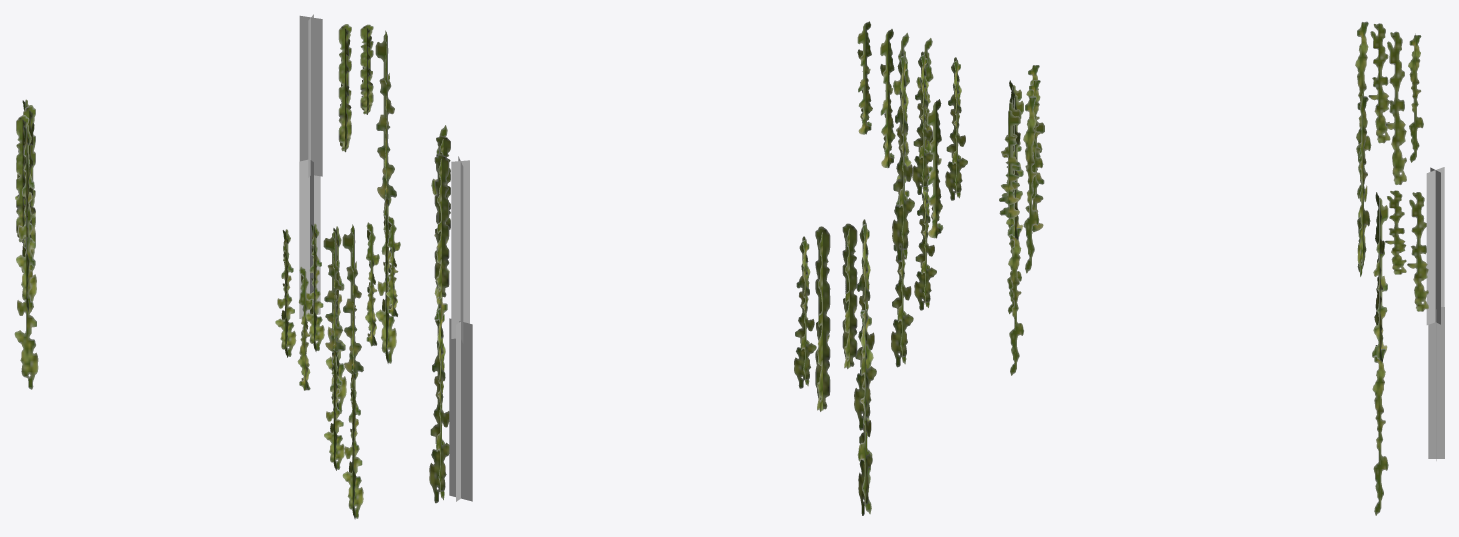
Rendered from CentralFolliageRoof.fbx.
3 renders of one model, left to right at view 1: azimuth 30°, elevation 25°; view 2: azimuth 150°, elevation 25°; view 3: azimuth 270°, elevation 25°, orthographic. The views are drawn at different scales.
Parts seen in each view (by area): view 1: Plane.009, Plane.010, Plane.006, Plane.002, Plane.017, Plane.015, Plane.003, Plane.004, Plane.011, Plane.013, Plane, Plane.005 (+4 smaller); view 2: Plane.009, Plane.010, Plane.014, Plane.012, Plane.015, Plane.006, Plane.002, Plane, Plane.003, Plane.017, Plane.016, Plane.004 (+4 smaller); view 3: Plane.009, Plane.010, Plane.006, Plane.014, Plane.003, Plane, Plane.012, Plane.017, Plane.013, Plane.016, Plane.015, Plane.008 (+2 smaller).
Part boxes in pixels (x1,y1,x2,y2): Plane.009: [299, 14, 322, 318]; Plane.010: [375, 30, 396, 363]; Plane.006: [342, 224, 363, 519]; Plane.002: [323, 230, 344, 470]; Plane.017: [14, 202, 38, 389]; Plane.015: [16, 124, 36, 312]; Plane.003: [338, 24, 351, 152]; Plane.004: [275, 229, 296, 357]; Plane.011: [306, 223, 324, 351]; Plane.013: [360, 24, 373, 114]; Plane: [16, 115, 29, 242]; Plane.005: [297, 266, 313, 390]; Plane.009: [449, 156, 472, 501]; Plane.010: [429, 125, 449, 503]; Plane.014: [815, 226, 830, 411]; Plane.012: [892, 51, 914, 262]; Plane.015: [854, 219, 876, 430]; Plane.006: [891, 32, 913, 367]; Plane.002: [914, 38, 936, 310]; Plane: [842, 223, 857, 369]; Plane.003: [434, 154, 449, 299]; Plane.017: [857, 309, 873, 515]; Plane.016: [794, 236, 816, 388]; Plane.004: [945, 57, 967, 200]; Plane.009: [1426, 167, 1444, 460]; Plane.010: [1372, 192, 1388, 515]; Plane.006: [1007, 89, 1023, 375]; Plane.014: [1385, 31, 1406, 184]; Plane.003: [1407, 192, 1428, 311]; Plane: [1368, 23, 1390, 143]; Plane.012: [1023, 96, 1039, 273]; Plane.017: [1356, 93, 1370, 276]; Plane.013: [1385, 190, 1406, 274]; Plane.016: [1408, 33, 1423, 162]; Plane.015: [1355, 21, 1371, 198]; Plane.008: [999, 106, 1020, 204].
Bounding box in the file's own units: 1954 × 1622 × 2012.
